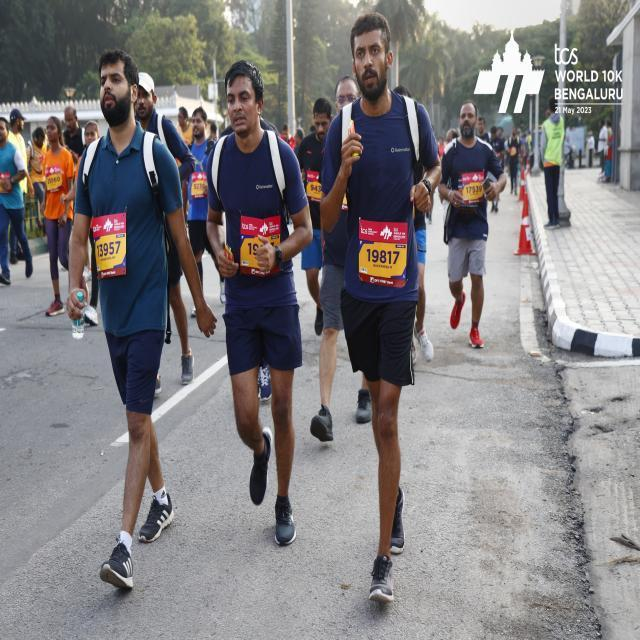dorsal: (359, 218, 407, 289), (90, 213, 130, 279), (458, 172, 486, 208)
